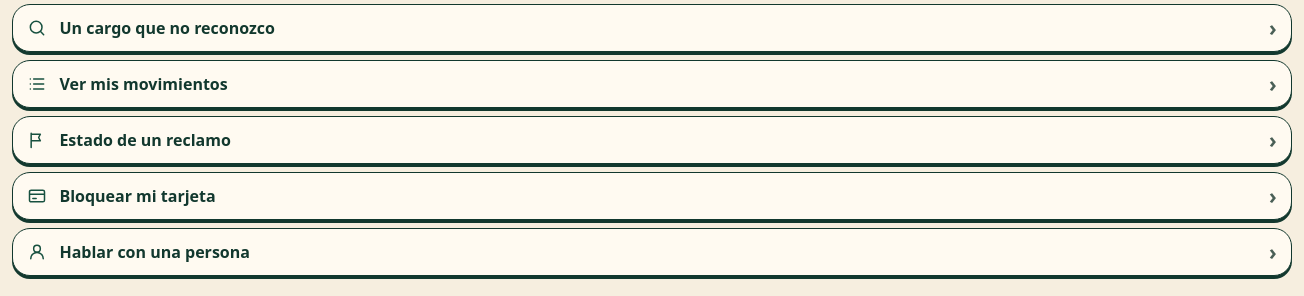
Test: BlockView › quick_replies with topics: sends start_topic with its topic exactly as the backend gave it
The image size is (1304, 296).
Click the button "Bloquear mi tarjeta ›": click(138, 196) [12,172,1292,220]
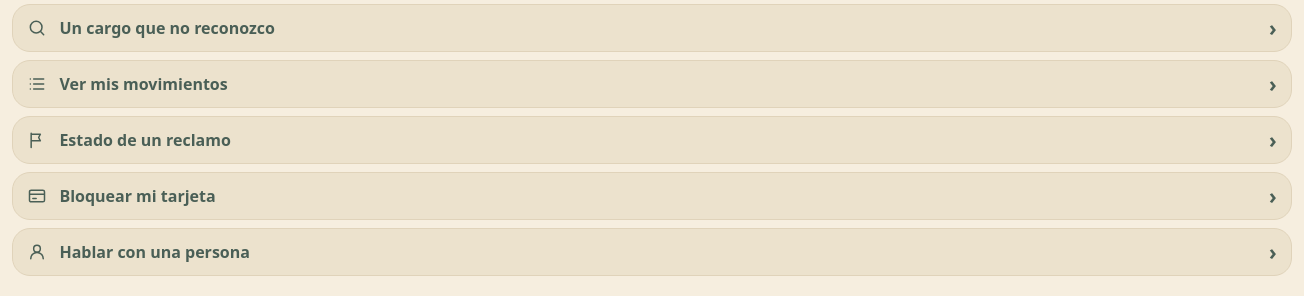
Check: the button "Bloquear mi tarjeta ›" is disabled, box [12,172,1292,220]
